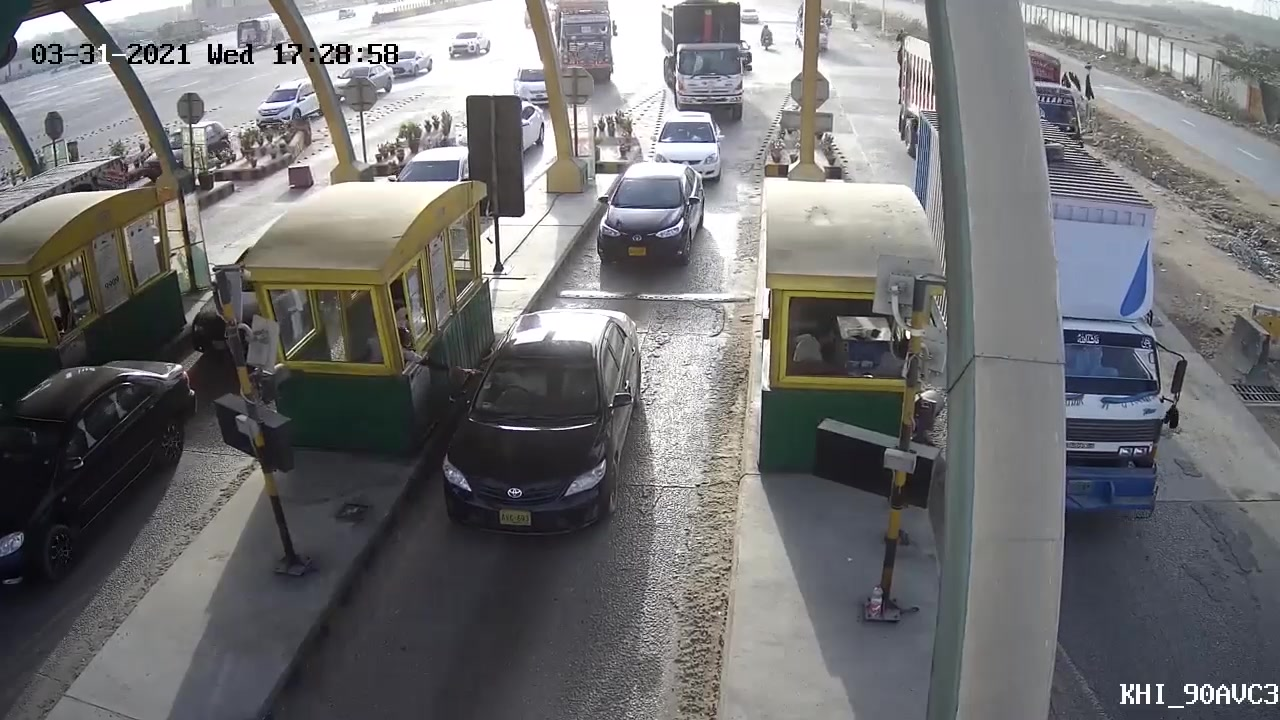F1: (433, 300, 657, 559)
